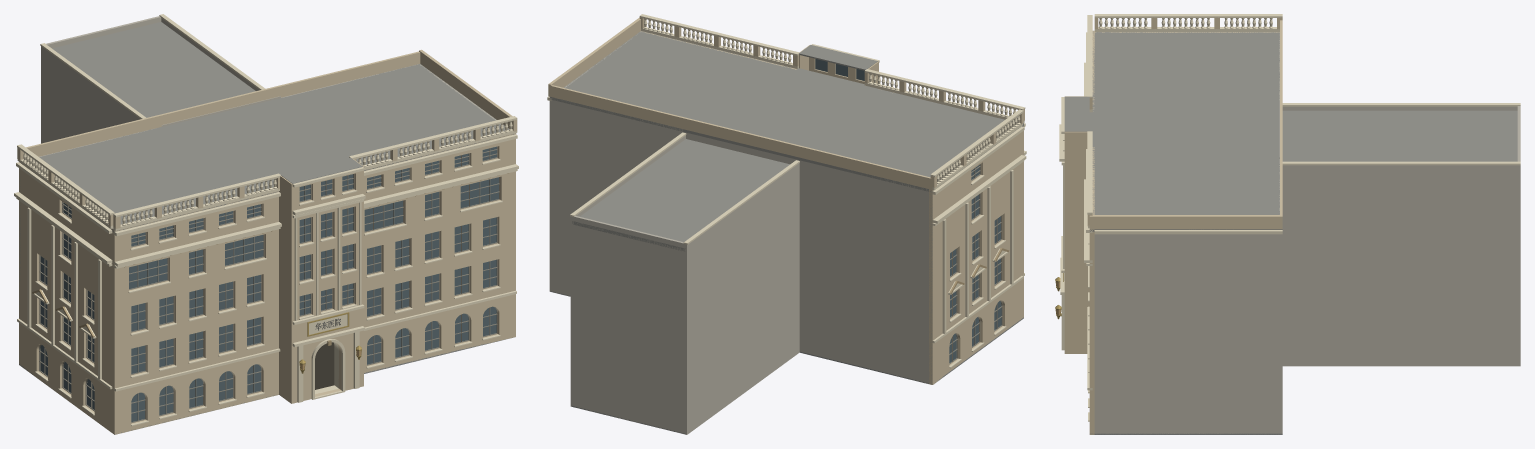
Rendered from jingan-country-hospital-north-block-raw.glb.
3 views of the same model, side by side, from view 1: azimuth 30°, elevation 25°; view 2: azimuth 150°, elevation 25°; view 3: azimuth 270°, elevation 25° (orthographic). The views are drawn at different scales.
Visible parts, largest first — view 1: 宏恩医院历史主楼北翼与中部门诊连接体; view 2: 宏恩医院历史主楼北翼与中部门诊连接体; view 3: 宏恩医院历史主楼北翼与中部门诊连接体.
Boxes of the visible parts, box(x1,y1,x2,y2) form: 宏恩医院历史主楼北翼与中部门诊连接体: box(14, 14, 518, 434); 宏恩医院历史主楼北翼与中部门诊连接体: box(547, 14, 1026, 434); 宏恩医院历史主楼北翼与中部门诊连接体: box(1055, 14, 1520, 434).
Size of the model in its own units: 36.07 by 18.56 by 35.19.
